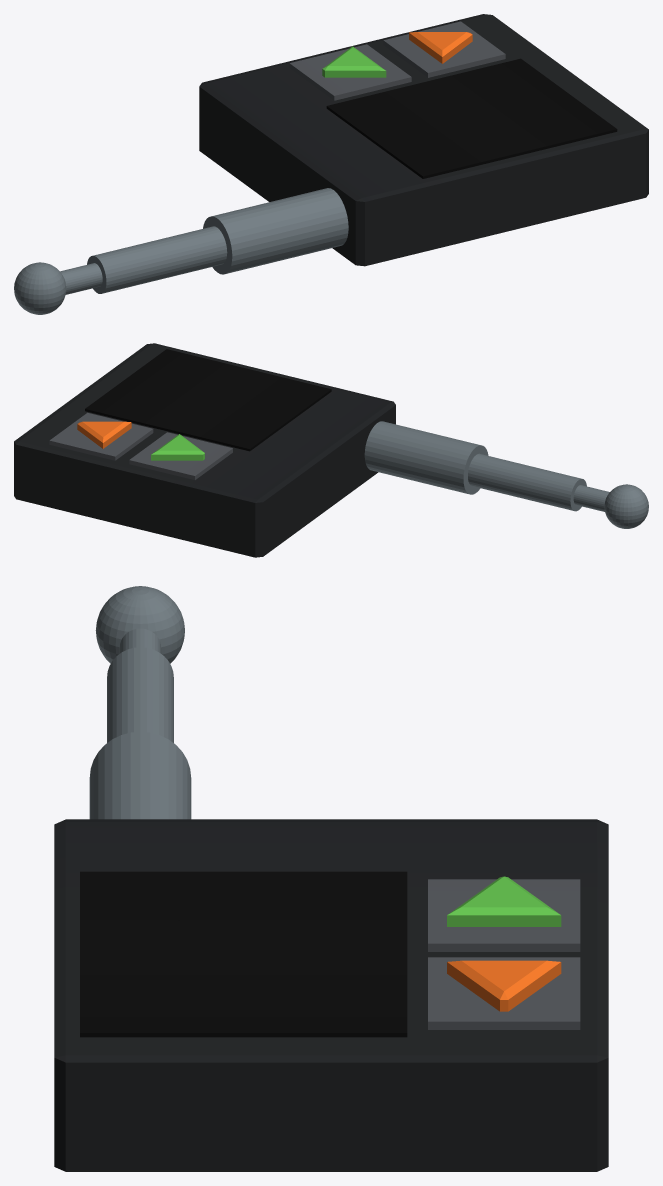
The model's file is Reciver2.fbx.
3 views of the same model, one above another, from view 1: azimuth 30°, elevation 25°; view 2: azimuth 150°, elevation 25°; view 3: azimuth 270°, elevation 25° (orthographic). The views are drawn at different scales.
Visible parts, largest first — view 1: Body, Display, Antenna, UpButton, DownButton, Sphere, Cube.007, Cube.004; view 2: Body, Display, Antenna, UpButton, DownButton, Sphere, Cube.007, Cube.004; view 3: Body, Display, Antenna, UpButton, DownButton, Sphere, Cube.007, Cube.004.
Part boxes in pixels (x1,y1,x2,y2): Body: (199, 14, 648, 266); Display: (326, 58, 617, 178); Antenna: (60, 188, 348, 294); UpButton: (289, 44, 411, 100); DownButton: (383, 21, 505, 77); Sphere: (14, 262, 66, 314); Cube.007: (409, 32, 472, 63); Cube.004: (322, 46, 386, 77); Body: (14, 343, 395, 557); Display: (85, 349, 331, 451); Antenna: (364, 421, 609, 511); UpButton: (129, 432, 232, 479); DownButton: (49, 412, 153, 460); Sphere: (604, 484, 648, 528); Cube.007: (77, 421, 131, 448); Cube.004: (151, 434, 204, 460); Body: (54, 819, 608, 1171); Display: (80, 871, 407, 1037); Antenna: (89, 628, 191, 819); UpButton: (428, 879, 580, 951); DownButton: (428, 957, 580, 1029); Sphere: (95, 586, 184, 663); Cube.007: (447, 960, 561, 1011); Cube.004: (447, 876, 561, 926).
Bounding box in the file's own units: 23.58 × 3.02 × 10.93.
